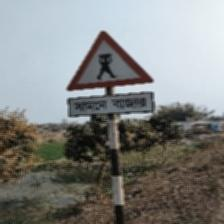Market-in-front: (65, 30, 156, 119)
